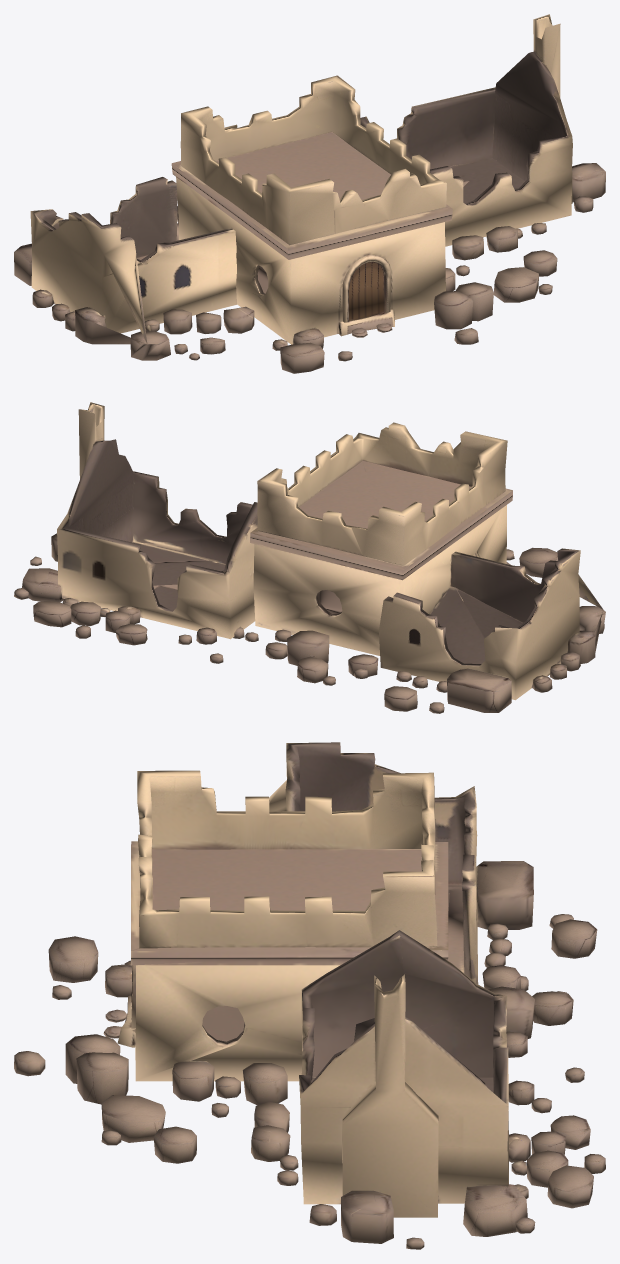
The model's file is meshy-c8-d3.glb.
The picture shows the model from 3 angles, top to bottom: view 1: azimuth 30°, elevation 25°; view 2: azimuth 150°, elevation 25°; view 3: azimuth 270°, elevation 25°; orthographic projection. The views are drawn at different scales.
Size of the model in its own units: 1 by 0.2983 by 0.6803.
1 material, 1 textured.
